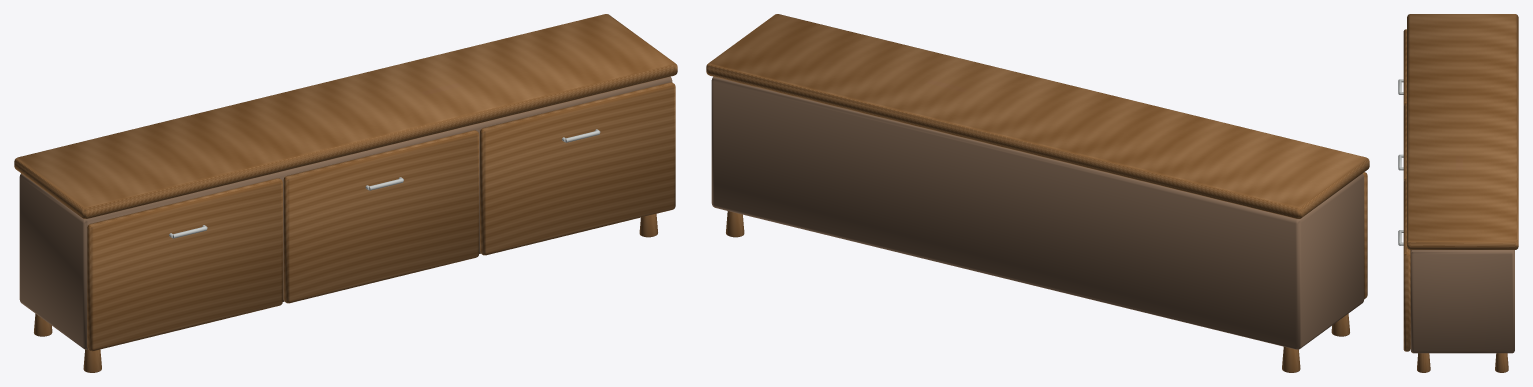
File: tv-console.glb
The picture shows the model from 3 angles, left to right: view 1: azimuth 30°, elevation 25°; view 2: azimuth 150°, elevation 25°; view 3: azimuth 270°, elevation 25°; orthographic projection. The views are drawn at different scales.
Visible parts, largest first — view 1: tv-console-mesh; view 2: tv-console-mesh; view 3: tv-console-mesh.
Boxes of the visible parts, bbox=[...] form: tv-console-mesh: bbox=[14, 14, 677, 372]; tv-console-mesh: bbox=[706, 14, 1369, 372]; tv-console-mesh: bbox=[1398, 14, 1518, 372].
Size of the model in its own units: 1.8 by 0.5 by 0.4.
3 materials, 1 textured.
